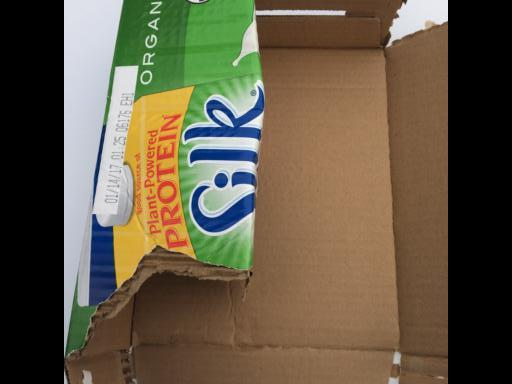cardboard: (71, 3, 449, 381)
